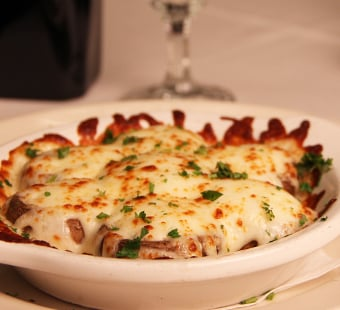pizza: (0, 1, 102, 102)
